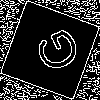G: (25, 25, 83, 80)
